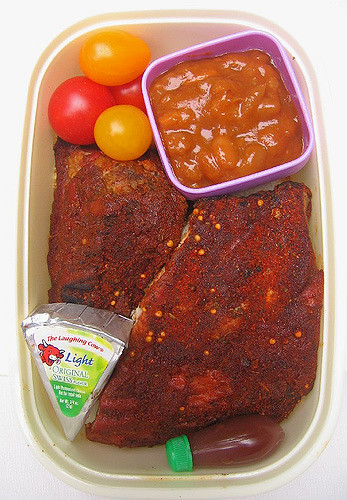meatballs: (193, 203, 294, 389)
